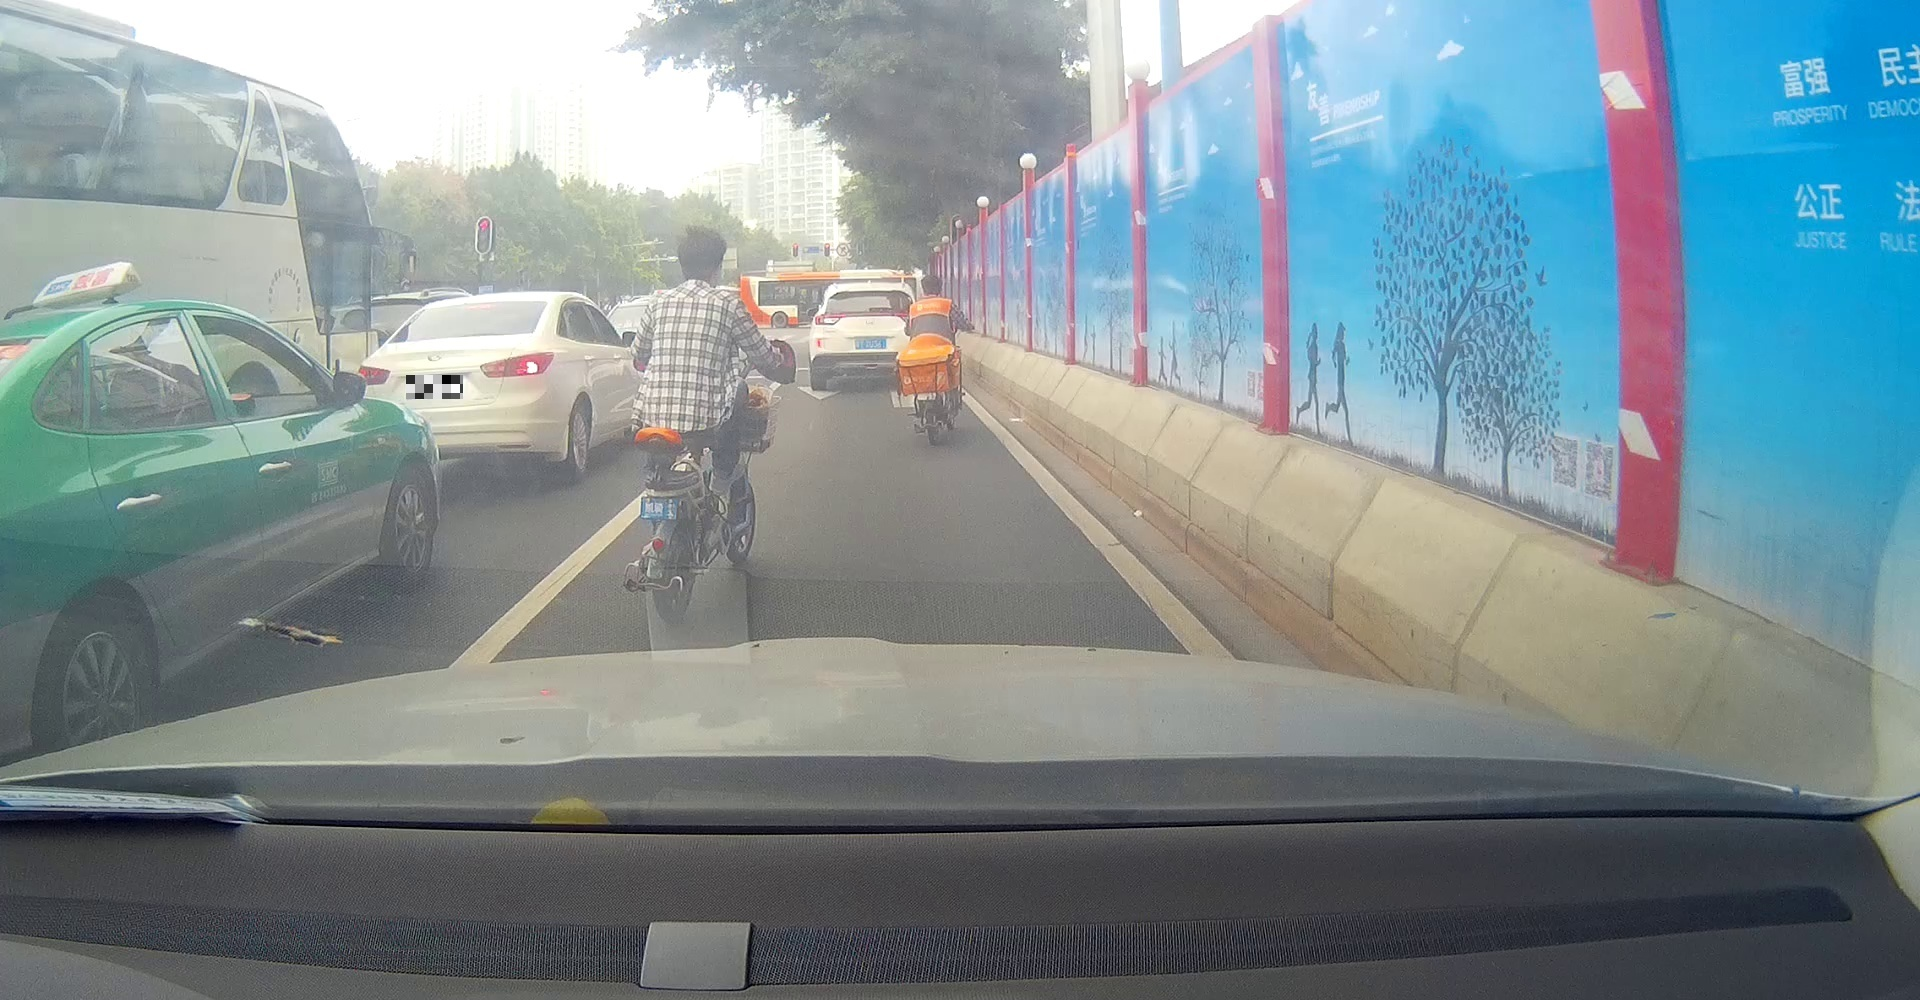L_light: (356, 365, 392, 386), (814, 313, 844, 325)
R_light: (477, 352, 554, 379), (898, 313, 918, 324)
T_light: (462, 302, 497, 308), (851, 313, 889, 317)
day-brake: (356, 291, 556, 484)
day-no: (809, 283, 919, 391)
plate_1: (406, 376, 463, 398)
